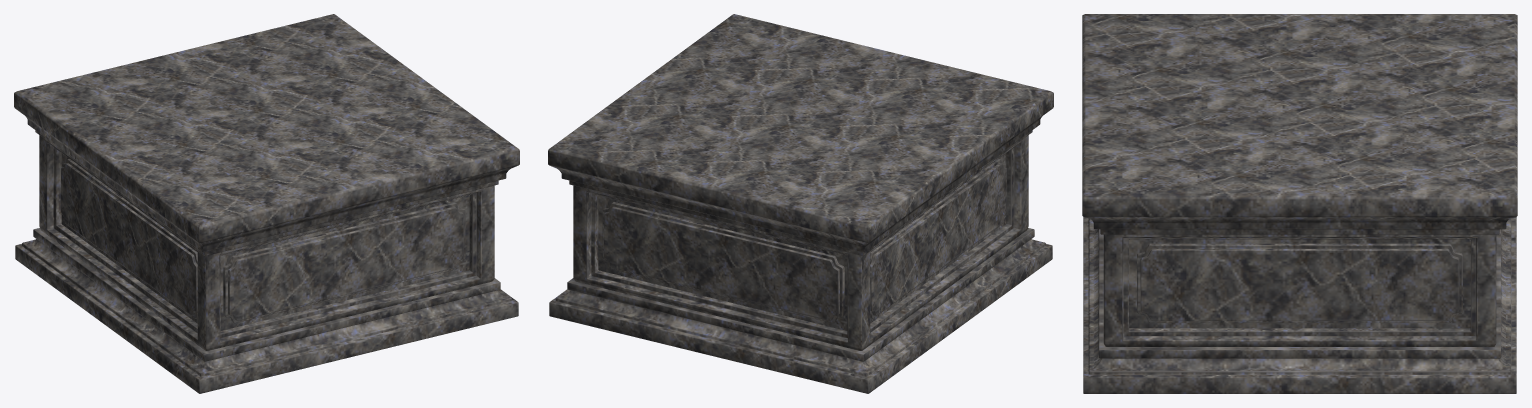
File: StatueStand_A.fbx
3 views of the same model, side by side, from view 1: azimuth 30°, elevation 25°; view 2: azimuth 150°, elevation 25°; view 3: azimuth 270°, elevation 25° (orthographic). The views are drawn at different scales.
Parts seen in each view (by area): view 1: StatueStand_A; view 2: StatueStand_A; view 3: StatueStand_A.
Boxes of the visible parts, box(x1,y1,x2,y2) form: StatueStand_A: box(14, 14, 519, 393); StatueStand_A: box(548, 14, 1053, 393); StatueStand_A: box(1082, 14, 1517, 393).
Size of the model in its own units: 4.47 by 2.24 by 4.47.
